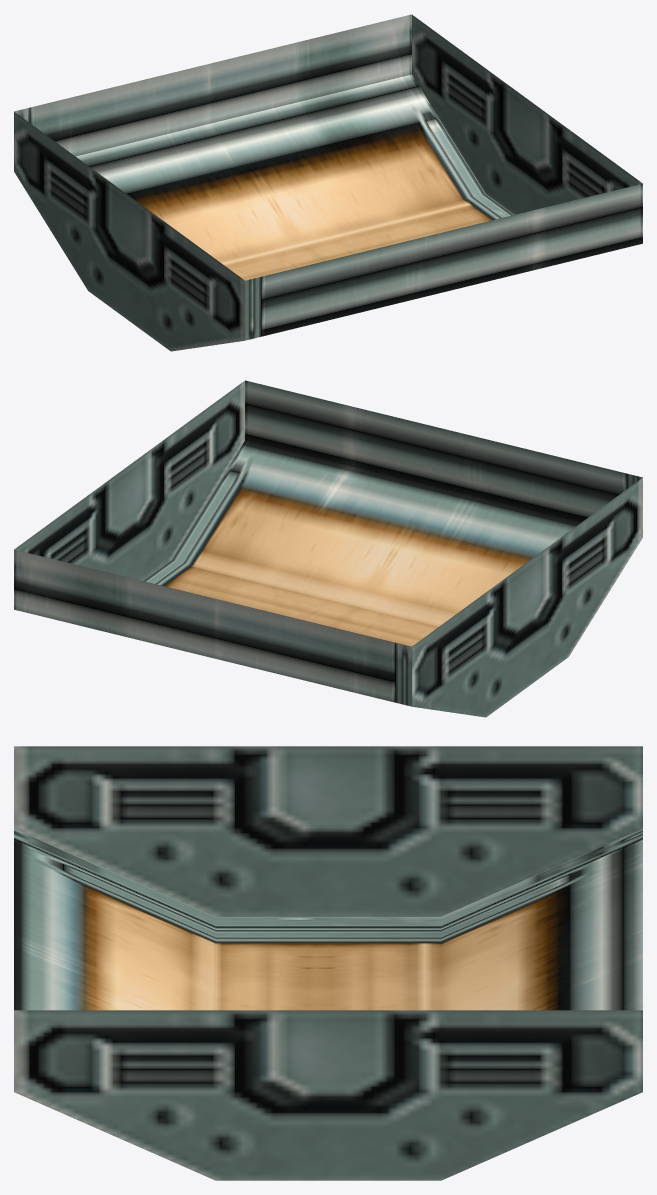
The model's file is mprw_light_lamp.FBX.
The picture shows the model from 3 angles, top to bottom: view 1: azimuth 30°, elevation 25°; view 2: azimuth 150°, elevation 25°; view 3: azimuth 270°, elevation 25°; orthographic projection. The views are drawn at different scales.
Visible parts, largest first — view 1: mprw_light_lamp; view 2: mprw_light_lamp; view 3: mprw_light_lamp.
Boxes of the visible parts, x1=… form: mprw_light_lamp: x1=14, y1=14, x2=642, y2=351; mprw_light_lamp: x1=14, y1=380, x2=642, y2=717; mprw_light_lamp: x1=14, y1=746, x2=642, y2=1180.
Size of the model in its own units: 169 by 50.75 by 170.
Materials: 1 (1 with a texture image).
